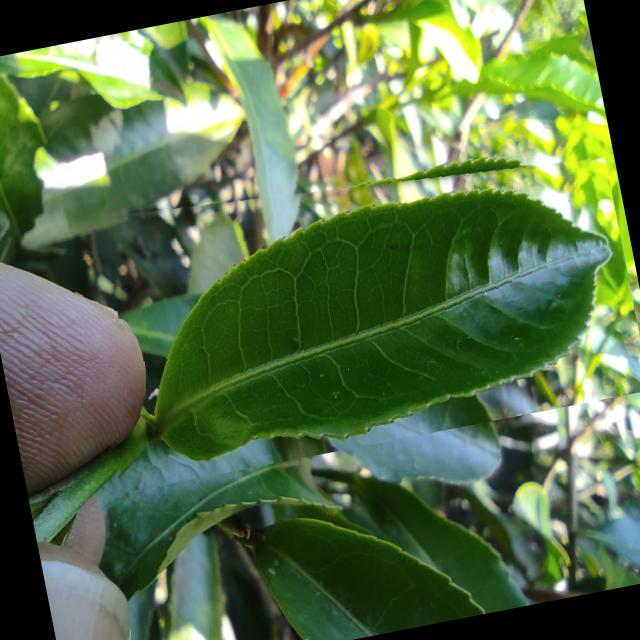Category C(4-7 days): (58, 117, 640, 495)
